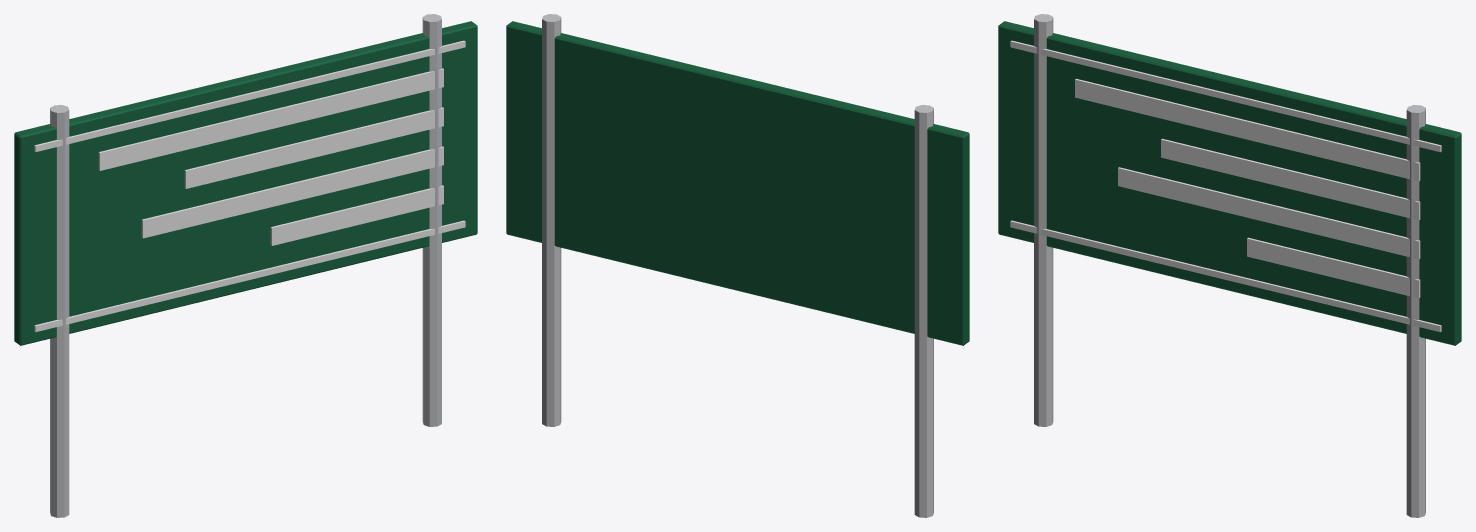
Rendered from site_sign.glb.
3 views of the same model, side by side, from view 1: azimuth 30°, elevation 25°; view 2: azimuth 150°, elevation 25°; view 3: azimuth 330°, elevation 25° (orthographic).
Parts seen in each view (by area): view 1: Body_LOD0; view 2: Body_LOD0; view 3: Body_LOD0.
Part boxes in pixels (bbox=[...]): Body_LOD0: bbox=[14, 14, 477, 517]; Body_LOD0: bbox=[506, 14, 969, 517]; Body_LOD0: bbox=[998, 14, 1461, 517].
Size of the model in its own units: 3.2 by 2.7 by 0.12.
